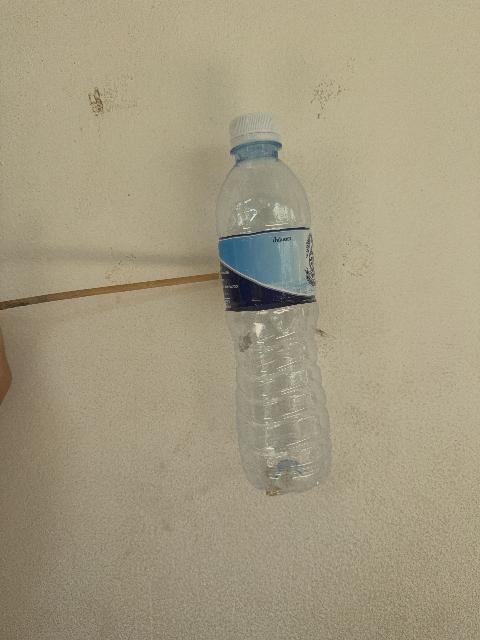bottle: (217, 113, 331, 494)
